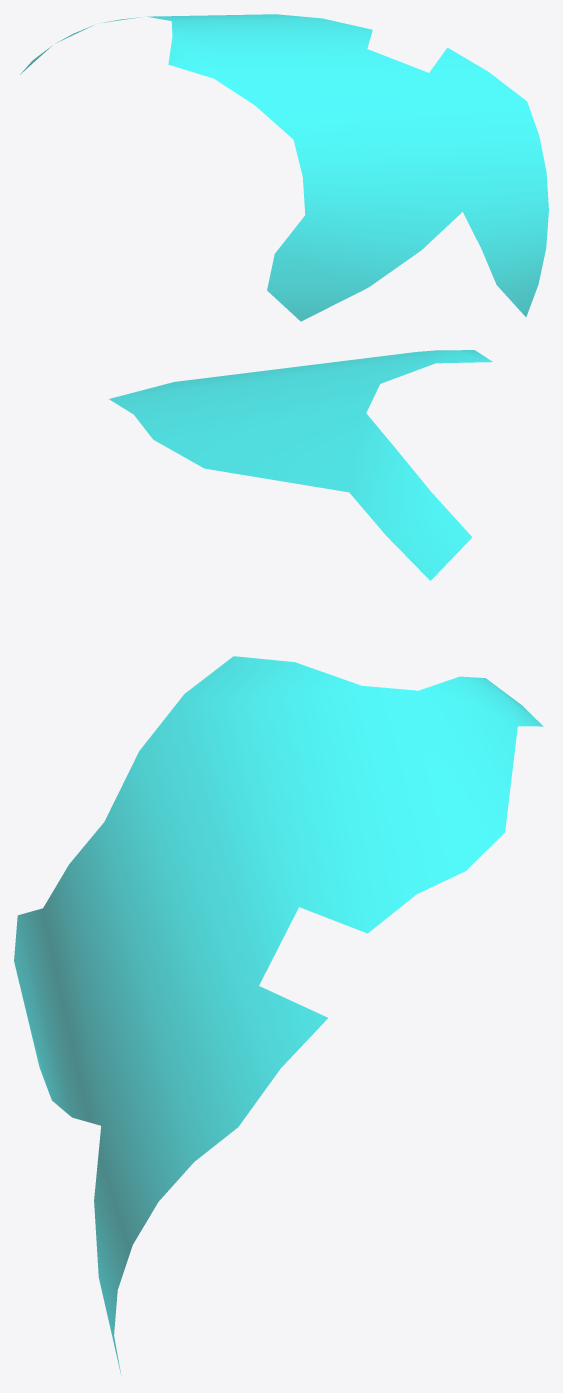
Rendered from firstFrame1.glb.
3 renders of one model, top to bottom at view 1: azimuth 30°, elevation 25°; view 2: azimuth 150°, elevation 25°; view 3: azimuth 270°, elevation 25°, orthographic. The views are drawn at different scales.
Visible parts, largest first — view 1: pasted__as; view 2: pasted__as; view 3: pasted__as.
Part boxes in pixels (x1,y1,x2,y2): pasted__as: (20, 14, 548, 321); pasted__as: (109, 350, 492, 580); pasted__as: (14, 656, 543, 1375).
Bounding box in the file's own units: 0.5257 × 0.3681 × 0.3649.
